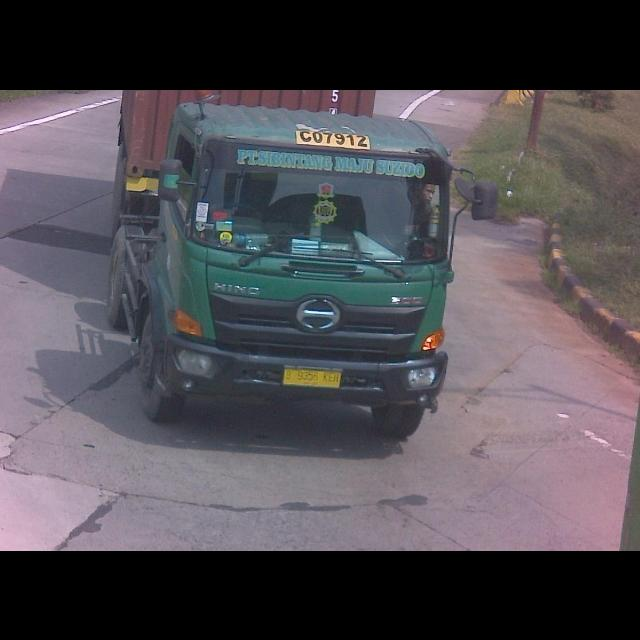plate: (282, 362, 342, 388)
